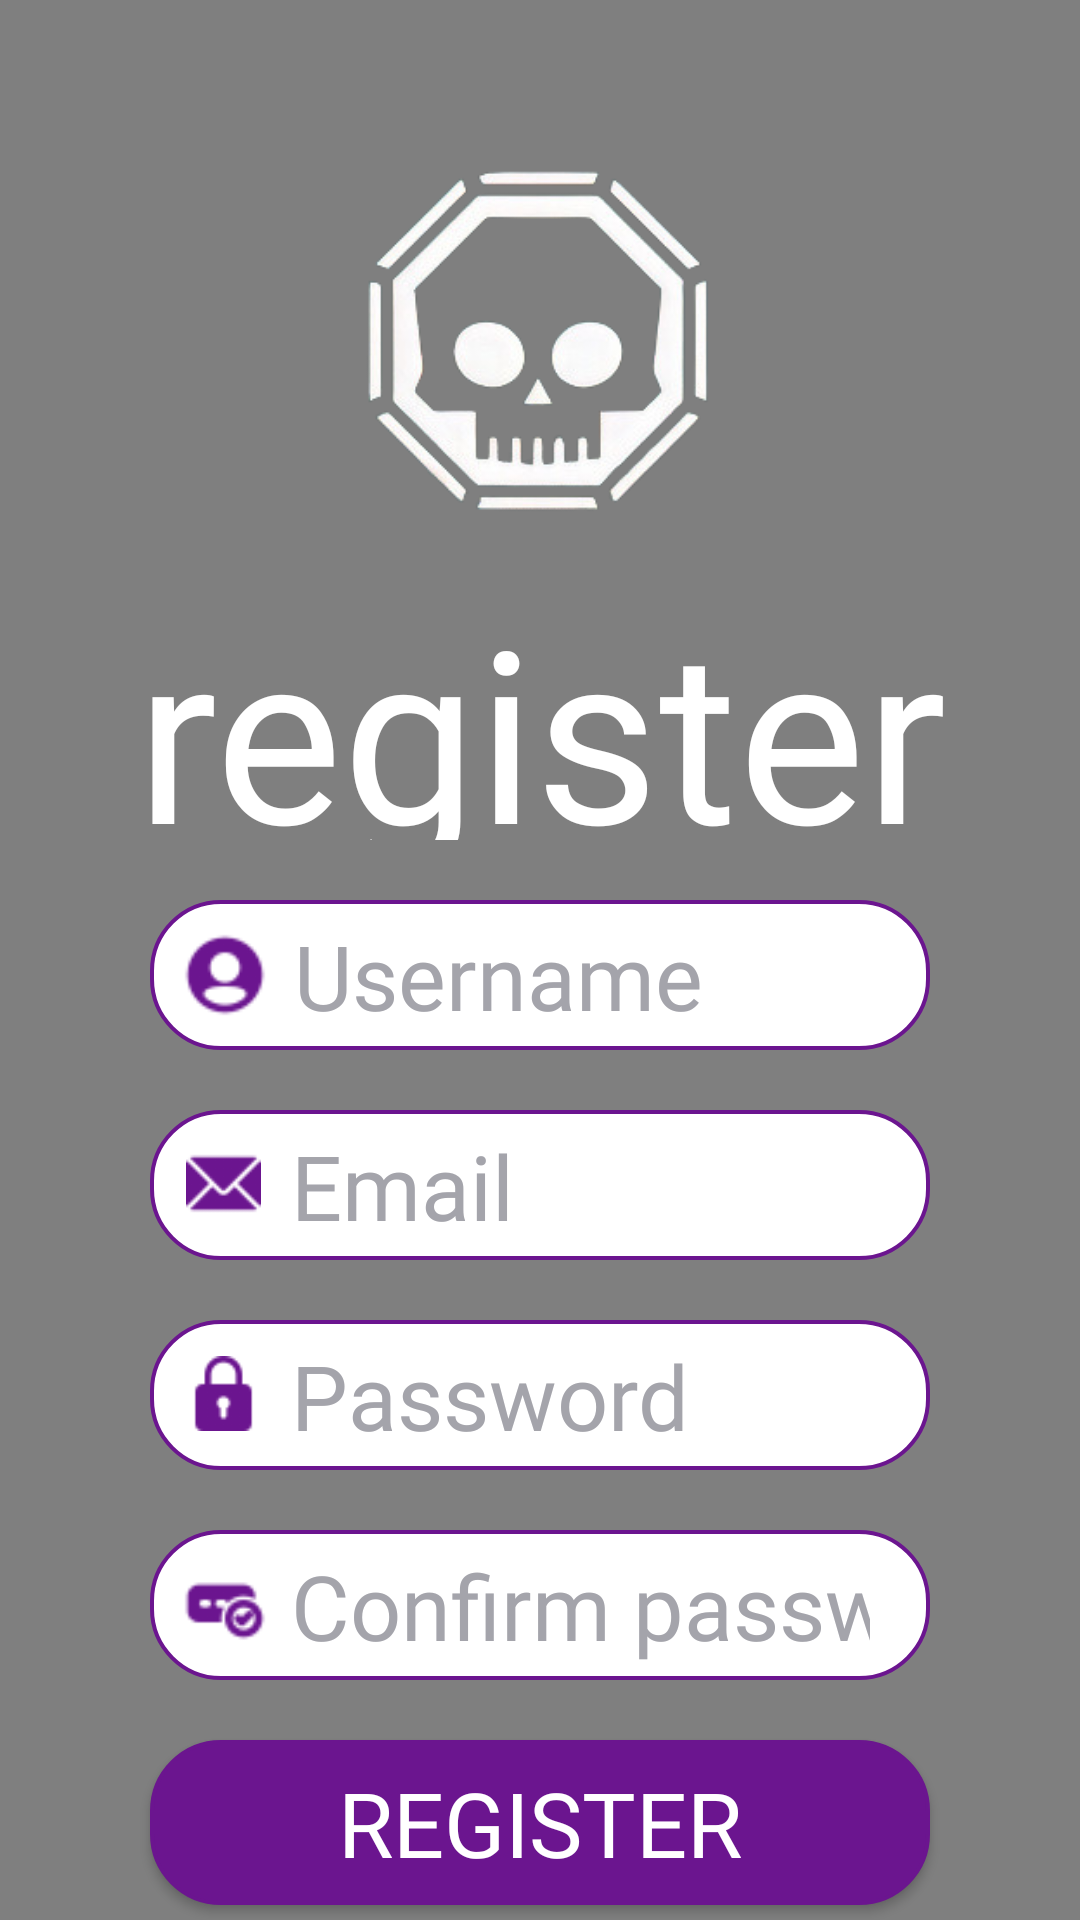

Icons on this 1080 × 1920 Android screen, each with the point to tap as point (x, y):
skull: point (538, 341)
